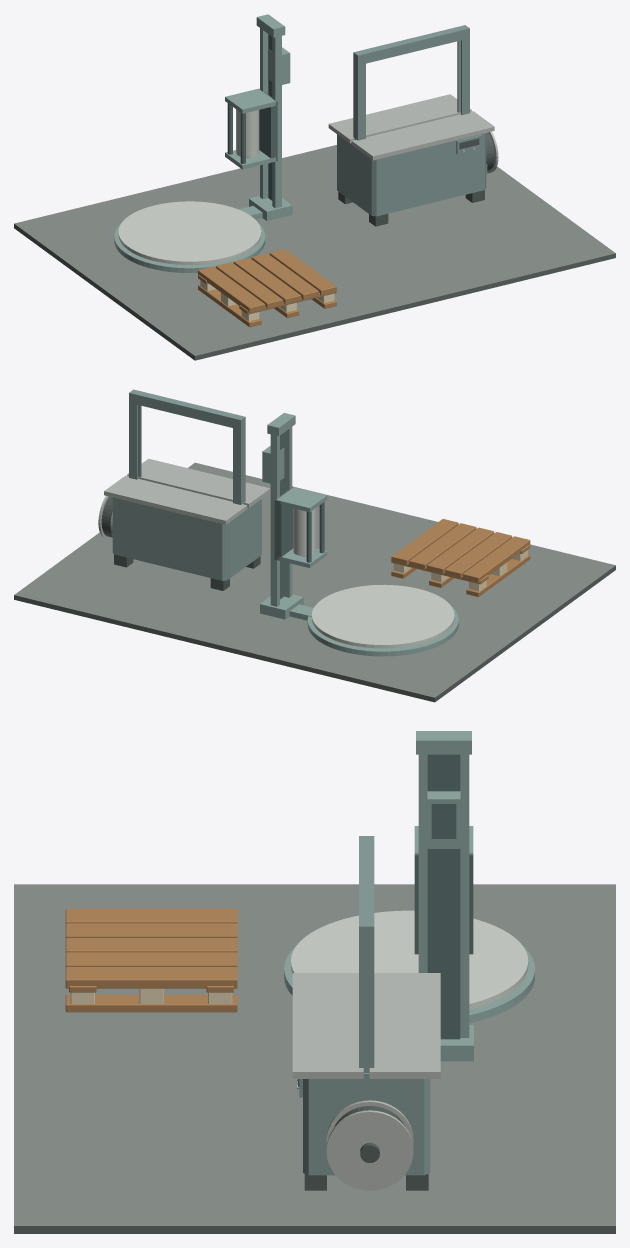
3 renders of one model, top to bottom at view 1: azimuth 30°, elevation 25°; view 2: azimuth 150°, elevation 25°; view 3: azimuth 270°, elevation 25°, orthographic. The views are drawn at different scales.
Parts seen in each view (by area): view 1: SCENE_ONLY__DisplayFloor, bander__WholeLowCabinetExterior, wrapper__WholeEmptyRoundTurntableDeck, pallet__logistics-wood-pallet-01, bander__WholeContinuousInwardGroovedArch, bander__WholeFrontTableHalf, bander__WholeRearTableHalf, wrapper__WholeTallMastGuide_0, wrapper__WholeLowCircularPlatformBase, wrapper__WholeFixedCarriageBack, wrapper__WholeOpaqueAnnularFilmRoll, wrapper__WholeTallMastGuide_1 (+3 smaller); view 2: SCENE_ONLY__DisplayFloor, bander__WholeLowCabinetExterior, wrapper__WholeEmptyRoundTurntableDeck, pallet__logistics-wood-pallet-01, bander__WholeContinuousInwardGroovedArch, bander__WholeRearTableHalf, bander__WholeFrontTableHalf, wrapper__WholeLowCircularPlatformBase, wrapper__WholeTallMastGuide_1, wrapper__WholeFixedCarriageBack, wrapper__WholeOpaqueAnnularFilmRoll, wrapper__WholeTallMastGuide_0 (+5 smaller); view 3: SCENE_ONLY__DisplayFloor, pallet__logistics-wood-pallet-01, wrapper__WholeEmptyRoundTurntableDeck, bander__WholeFrontTableHalf, bander__WholeRearTableHalf, wrapper__WholeMastRearCover, bander__WholeLowCabinetExterior, bander__WholeBoredRetainingFlangeOuter, bander__WholeContinuousInwardGroovedArch, wrapper__WholeTallMastGuide_1, wrapper__WholeTallMastGuide_0, wrapper__WholeLowCircularPlatformBase (+6 smaller).
Part boxes in pixels (x1,y1,x2,y2): SCENE_ONLY__DisplayFloor: (14, 145, 615, 360); bander__WholeLowCabinetExterior: (337, 133, 486, 216); wrapper__WholeEmptyRoundTurntableDeck: (118, 201, 261, 264); pallet__logistics-wood-pallet-01: (198, 249, 336, 327); bander__WholeContinuousInwardGroovedArch: (353, 25, 469, 140); bander__WholeFrontTableHalf: (351, 111, 494, 160); bander__WholeRearTableHalf: (328, 94, 471, 143); wrapper__WholeTallMastGuide_0: (272, 36, 281, 208); wrapper__WholeLowCircularPlatformBase: (114, 223, 265, 272); wrapper__WholeFixedCarriageBack: (259, 89, 277, 161); wrapper__WholeOpaqueAnnularFilmRoll: (236, 109, 259, 157); wrapper__WholeTallMastGuide_1: (260, 28, 268, 198); SCENE_ONLY__DisplayFloor: (14, 462, 615, 702); bander__WholeLowCabinetExterior: (112, 497, 261, 580); wrapper__WholeEmptyRoundTurntableDeck: (312, 584, 454, 648); pallet__logistics-wood-pallet-01: (391, 519, 530, 596); bander__WholeContinuousInwardGroovedArch: (129, 389, 245, 504); bander__WholeRearTableHalf: (104, 475, 247, 524); bander__WholeFrontTableHalf: (127, 458, 270, 507); wrapper__WholeLowCircularPlatformBase: (307, 607, 458, 656); wrapper__WholeTallMastGuide_1: (270, 434, 279, 606); wrapper__WholeFixedCarriageBack: (274, 487, 293, 560); wrapper__WholeOpaqueAnnularFilmRoll: (293, 508, 316, 556); wrapper__WholeTallMastGuide_0: (284, 427, 292, 597); SCENE_ONLY__DisplayFloor: (14, 884, 615, 1233); pallet__logistics-wood-pallet-01: (65, 908, 237, 1012); wrapper__WholeEmptyRoundTurntableDeck: (291, 910, 528, 1009); bander__WholeFrontTableHalf: (292, 973, 363, 1078); bander__WholeRearTableHalf: (369, 973, 440, 1078); wrapper__WholeMastRearCover: (427, 754, 460, 1039); bander__WholeLowCabinetExterior: (303, 1073, 430, 1175); bander__WholeBoredRetainingFlangeOuter: (326, 1110, 413, 1190); bander__WholeContinuousInwardGroovedArch: (359, 836, 374, 1072); wrapper__WholeTallMastGuide_1: (460, 754, 469, 1037); wrapper__WholeTallMastGuide_0: (418, 754, 427, 972); wrapper__WholeLowCircularPlatformBase: (284, 946, 534, 1023).
Bounding box in the file's own units: 4.7 × 2.07 × 3.5.
